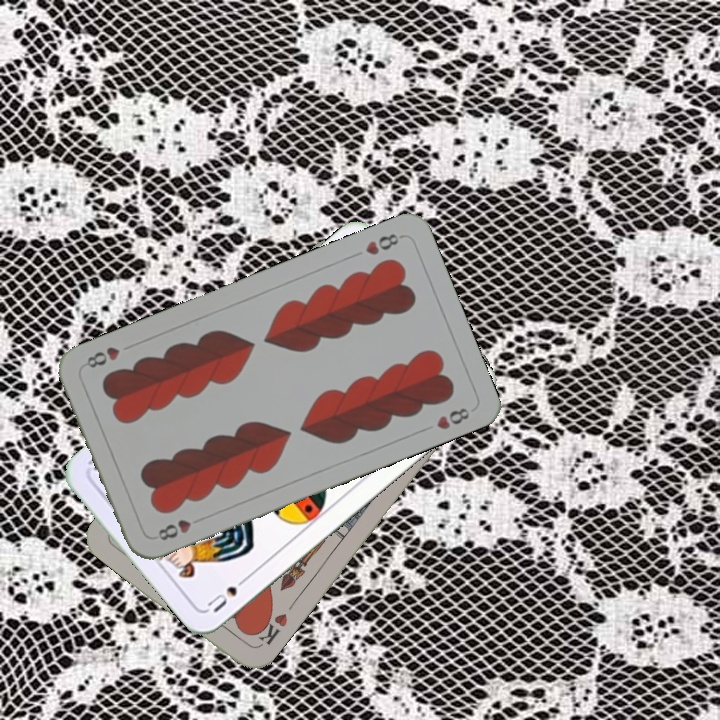H8: (151, 512, 207, 543), (361, 229, 406, 258)
HK: (248, 606, 290, 651)
SU: (203, 570, 253, 615)
